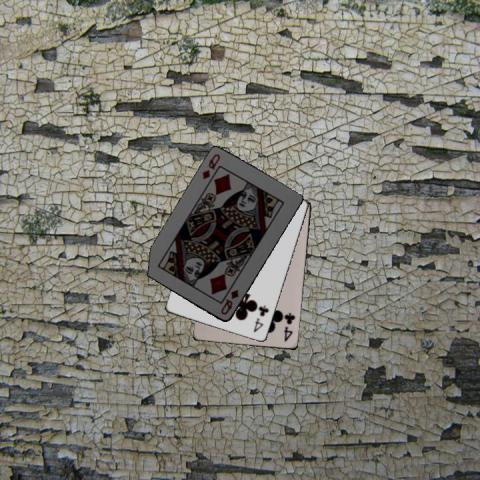4c: (251, 303, 270, 334), (281, 309, 297, 343)
Qd: (218, 286, 241, 316), (199, 152, 222, 182)
